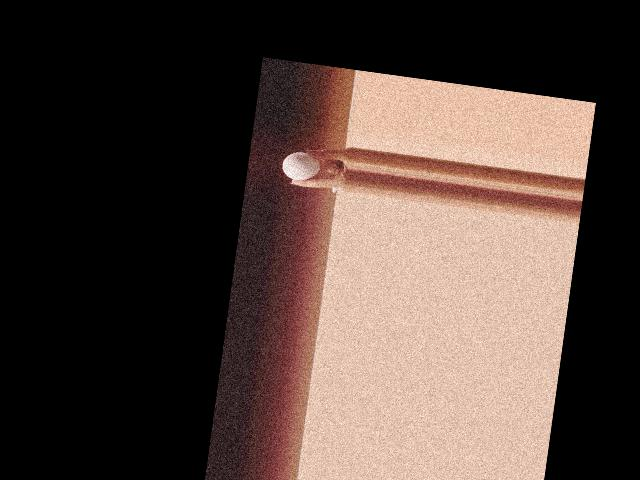egg: (281, 149, 322, 182)
